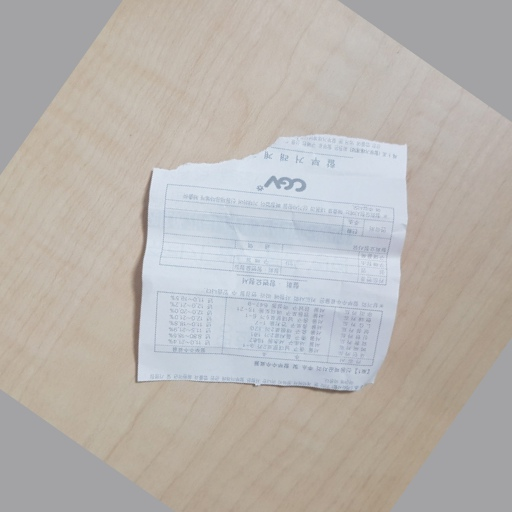Paper_2: (130, 126, 411, 405)
